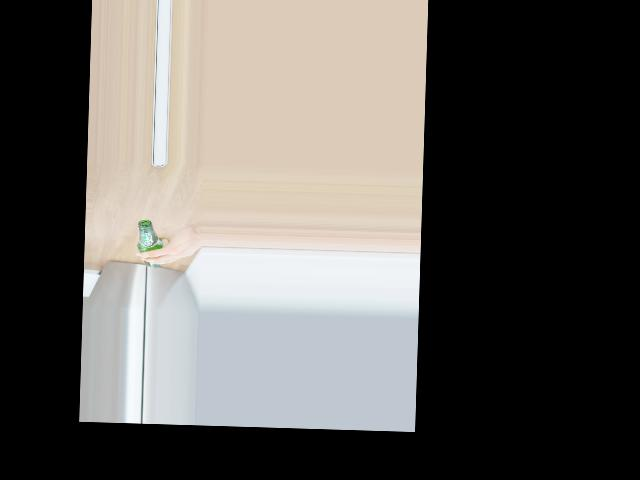beer: (137, 219, 165, 267)
